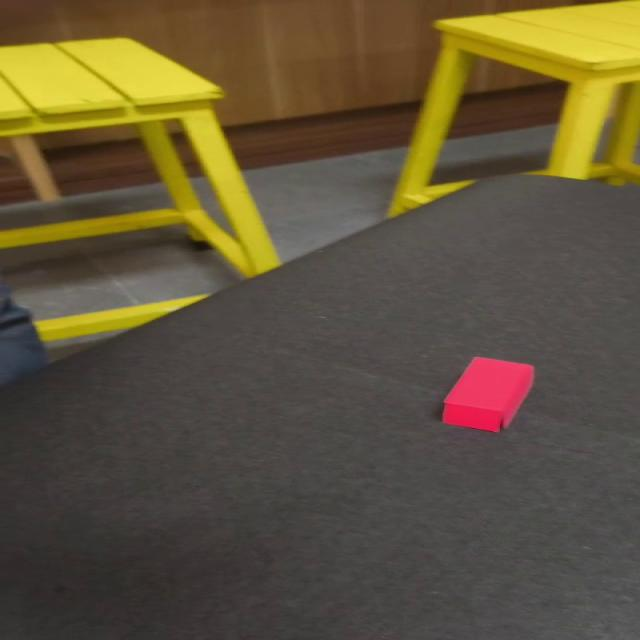red block: (440, 356, 535, 432)
